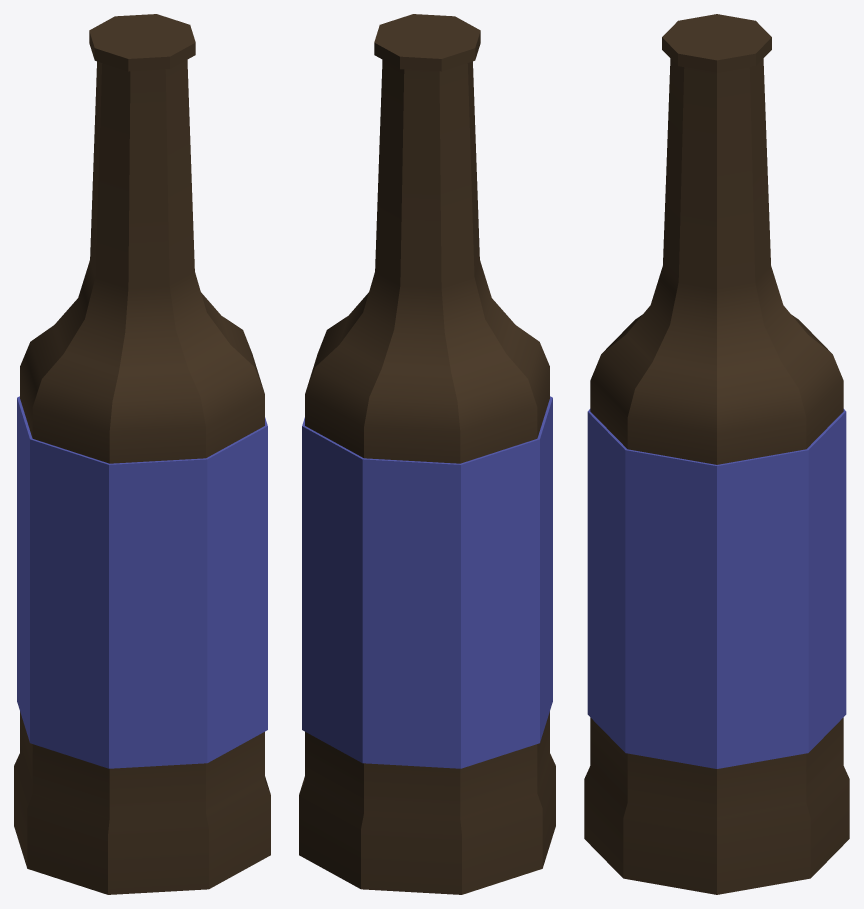
Rendered from soda3.fbx.
The picture shows the model from 3 angles, left to right: view 1: azimuth 30°, elevation 25°; view 2: azimuth 150°, elevation 25°; view 3: azimuth 270°, elevation 25°; orthographic projection.
Visible parts, largest first — view 1: soda_3; view 2: soda_3; view 3: soda_3.
Boxes of the visible parts, x1=… form: soda_3: x1=14, y1=14, x2=270, y2=894; soda_3: x1=299, y1=14, x2=555, y2=894; soda_3: x1=584, y1=14, x2=849, y2=894.
Size of the model in its own units: 2.1 by 6.99 by 2.1.
